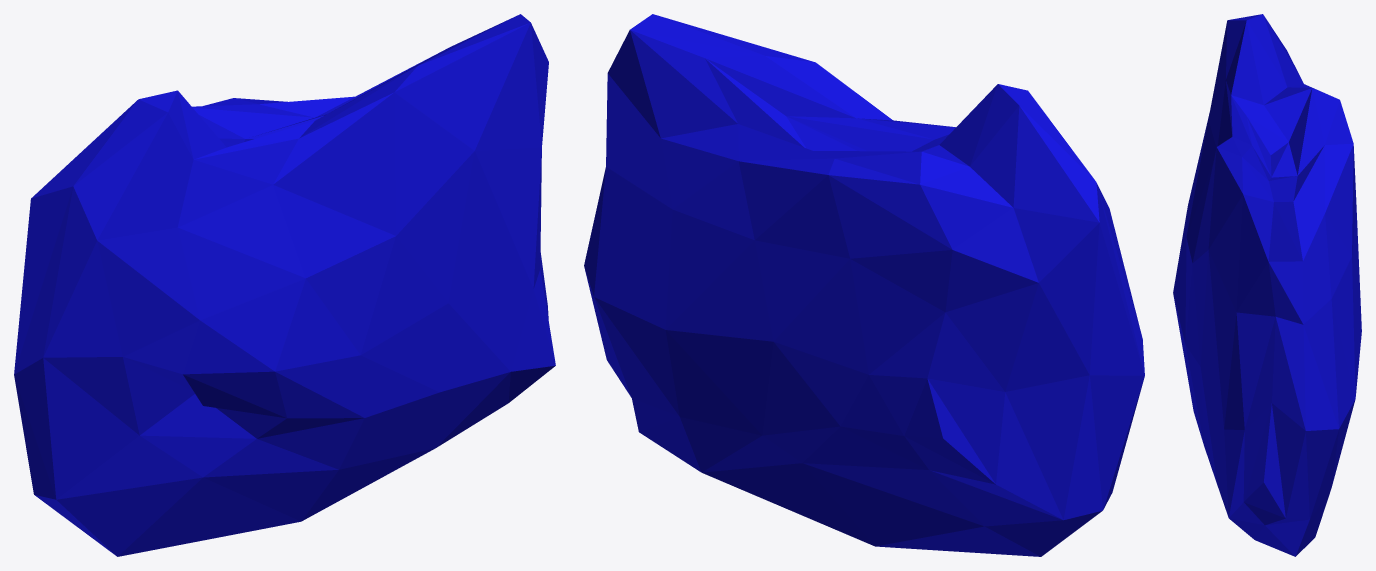
File: stone2.FBX
3 renders of one model, left to right at view 1: azimuth 30°, elevation 25°; view 2: azimuth 150°, elevation 25°; view 3: azimuth 270°, elevation 25°, orthographic. The views are drawn at different scales.
Parts seen in each view (by area): view 1: GeoSphere005; view 2: GeoSphere005; view 3: GeoSphere005.
Part boxes in pixels (bbox=[...]): GeoSphere005: bbox=[14, 14, 555, 556]; GeoSphere005: bbox=[584, 14, 1144, 556]; GeoSphere005: bbox=[1173, 14, 1361, 556].
Size of the model in its own units: 87.39 by 73.55 by 28.43.
